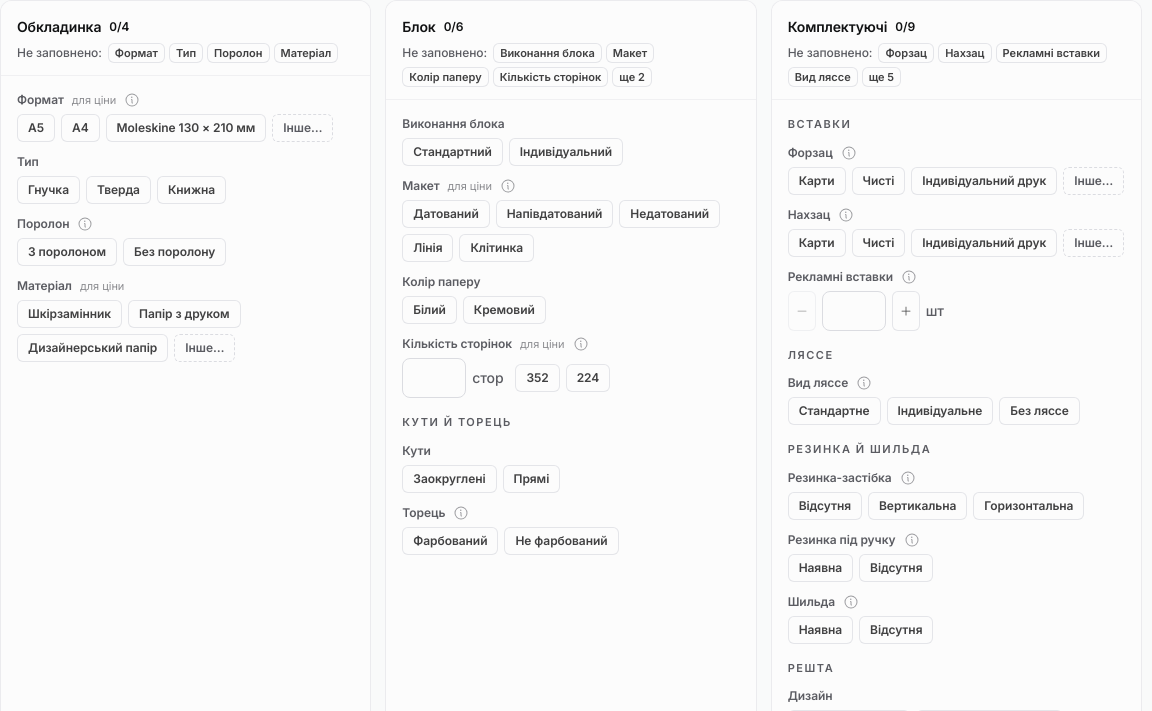
Test: кнопки замість підказок › непарна кількість вставок — попередження, а не блок
This screenshot has width=1152, height=711.
Type "3" into the field named "Рекламні вставки" at (854, 310), box [822, 290, 886, 330]
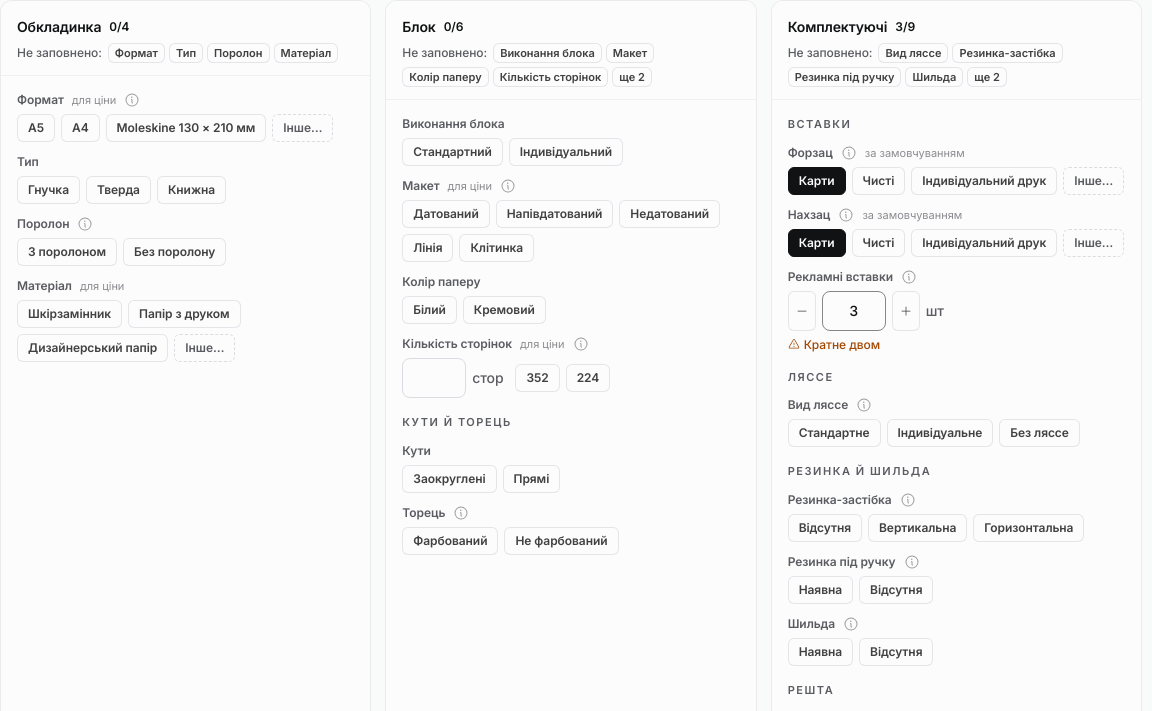
Expected: the text "Кратне двом" is shown, [788, 336, 880, 352]
Type "2" into the field named "Рекламні вставки" at (854, 310), box [822, 290, 886, 330]
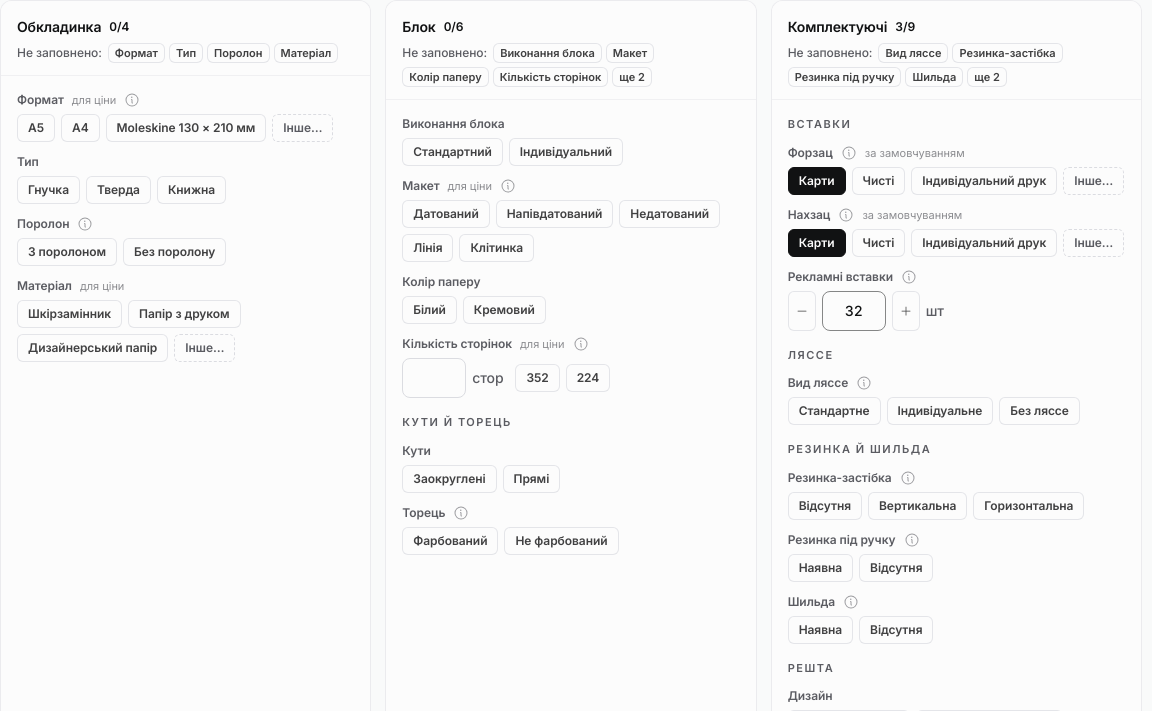
Expected: the text "Кратне двом" is gone
